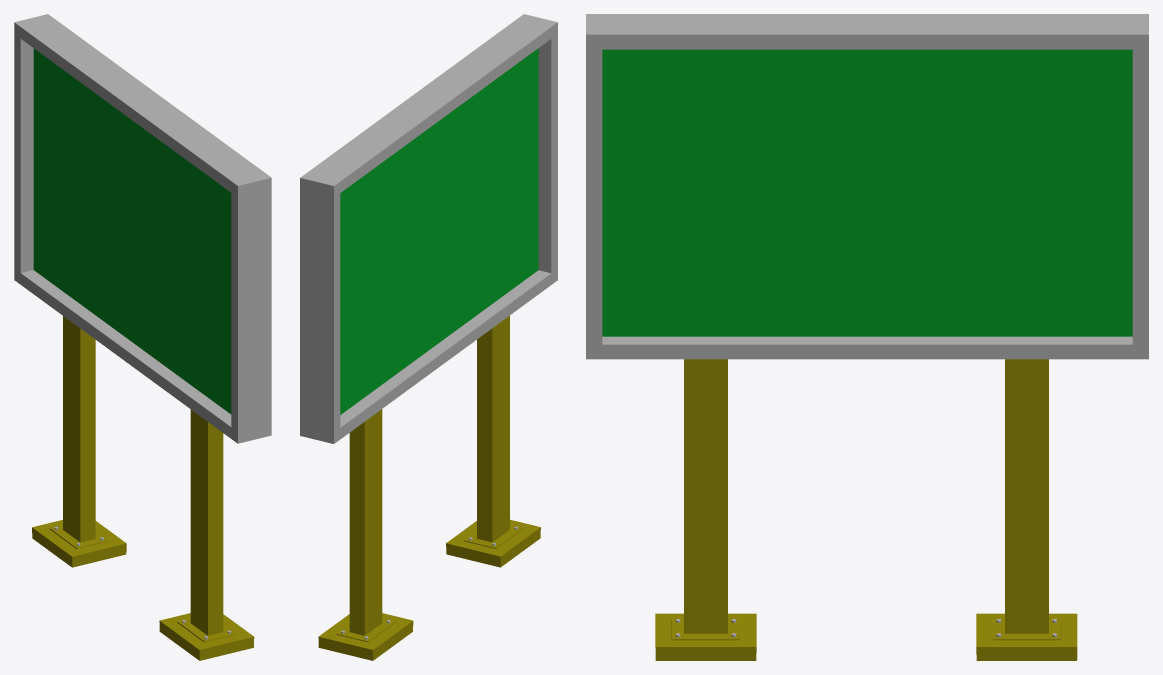
The model's file is billboard.FBX.
3 views of the same model, side by side, from view 1: azimuth 30°, elevation 25°; view 2: azimuth 150°, elevation 25°; view 3: azimuth 270°, elevation 25° (orthographic). The views are drawn at different scales.
Visible parts, largest first — view 1: Box002; view 2: Box002; view 3: Box002.
Boxes of the visible parts, bbox=[...] form: Box002: bbox=[14, 14, 271, 660]; Box002: bbox=[300, 14, 557, 660]; Box002: bbox=[586, 14, 1148, 660].
Size of the model in its own units: 46.38 by 400 by 329.
